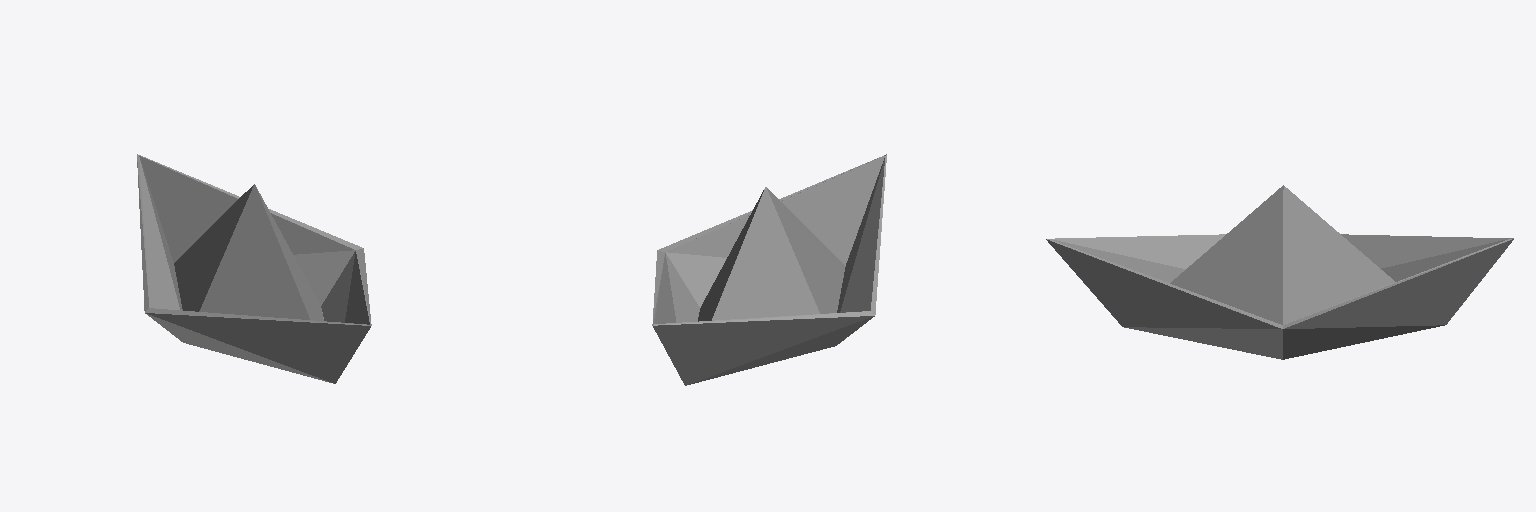
File: papboat.obj
3 views of the same model, side by side, from view 1: azimuth 30°, elevation 25°; view 2: azimuth 150°, elevation 25°; view 3: azimuth 270°, elevation 25° (orthographic).
Visible parts, largest first — view 1: Cube; view 2: Cube; view 3: Cube.
Boxes of the visible parts, x1=… form: Cube: x1=137, y1=154, x2=371, y2=383; Cube: x1=652, y1=154, x2=886, y2=385; Cube: x1=1046, y1=185, x2=1513, y2=359.
Size of the model in its own units: 3.3 by 2.05 by 6.14.